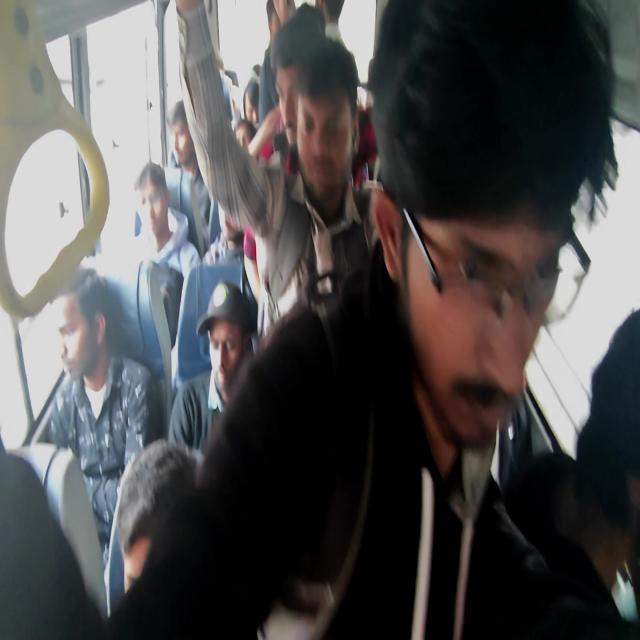person: (367, 82, 580, 426), (123, 477, 229, 640), (582, 323, 640, 591), (272, 39, 348, 172), (300, 68, 361, 190), (44, 281, 111, 389), (203, 286, 245, 378), (144, 158, 182, 251), (165, 104, 207, 178), (230, 118, 265, 183), (217, 197, 251, 250), (264, 4, 298, 48), (238, 85, 264, 121)
